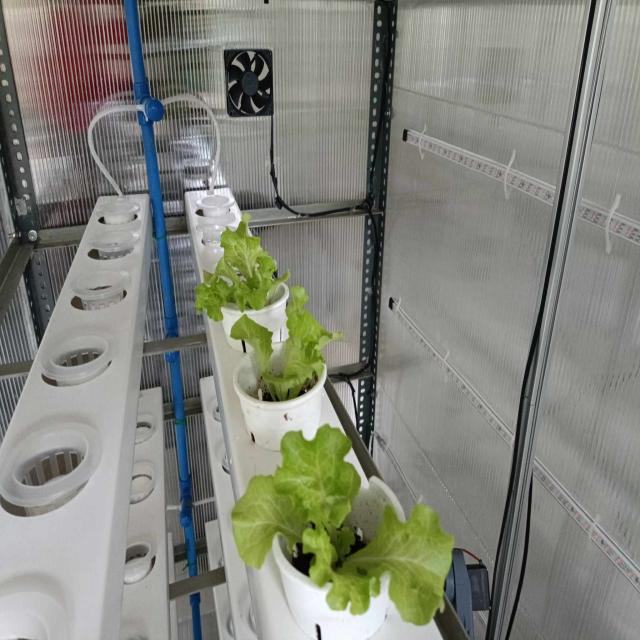Lettuce-Not-Ready-to-Harvest: (231, 425, 453, 635), (227, 283, 341, 414), (200, 218, 280, 322)
